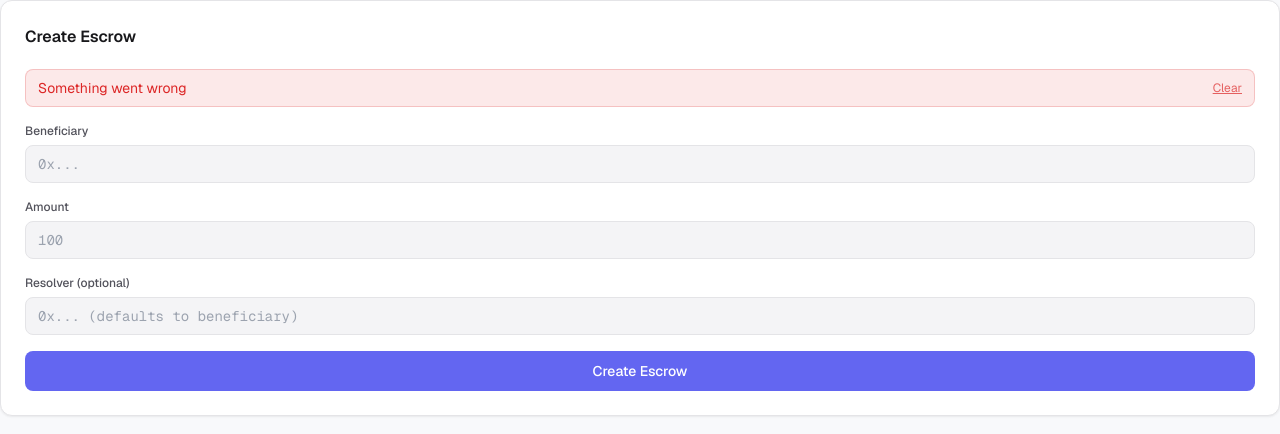
CreateEscrowForm › clear error button removes error message
The width and height of the screenshot is (1280, 434).
Click the button "Clear".
click(1227, 88)  # box 1213,80 -> 1242,96
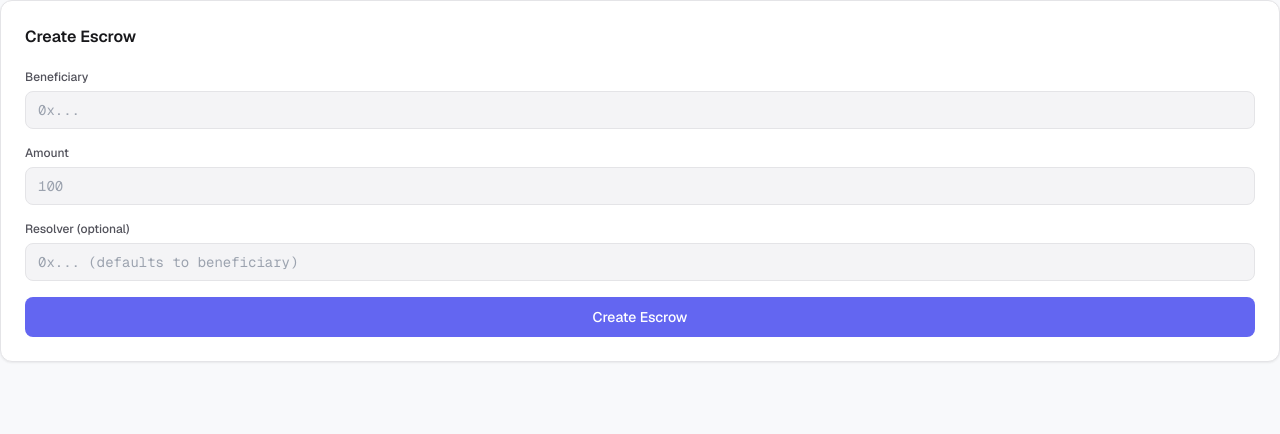
expect the text "Something went wrong" is gone: met
